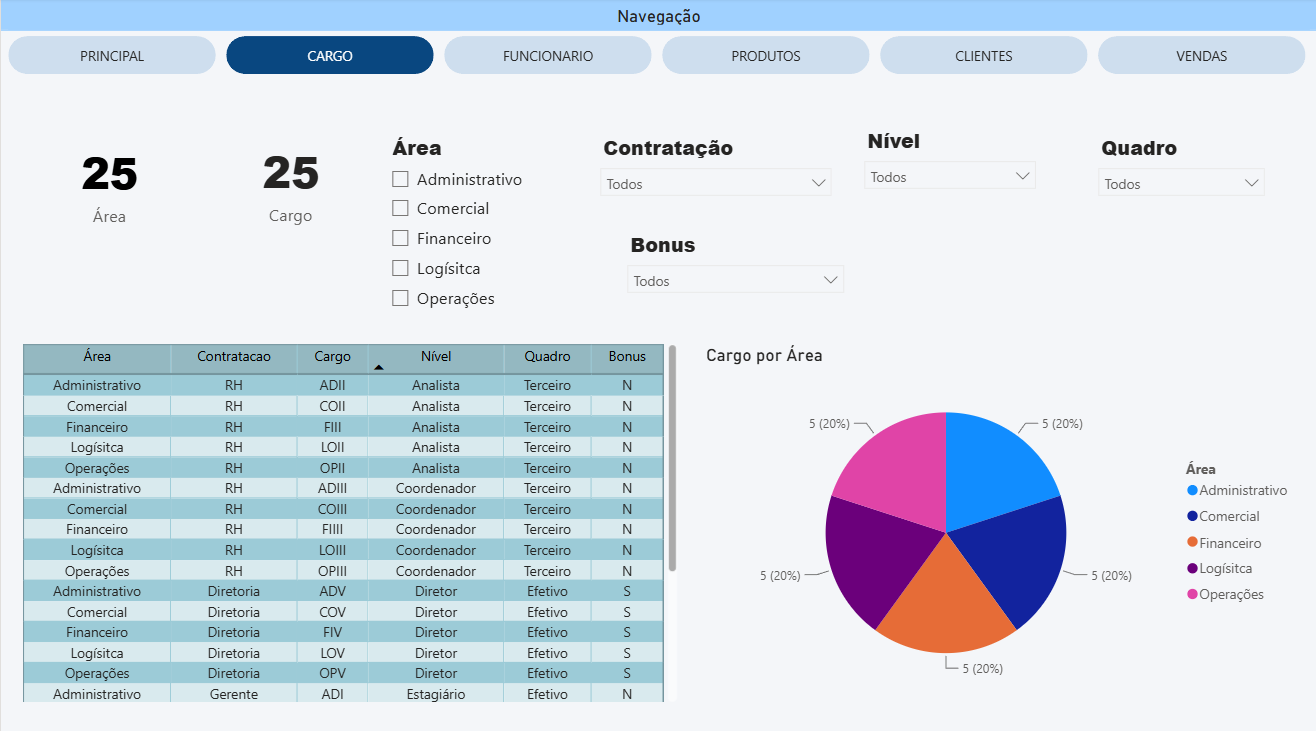

This screenshot's page, from the dashboard's own definition file:
{"tool":"powerbi","page":{"name":"CARGO","canvas":[1280,720],"ordinal":1},"visuals":[{"type":"pageNavigator","title":"Navegação","box":[0,0,1280,80.7],"z":0},{"type":"pieChart","fields":{"Category":["Base Cargos.Área"],"Y":["CountNonNull(Base Cargos.Cargo)"]},"box":[680.9,337.5,584.6,346.3],"z":1000},{"type":"cardVisual","fields":{"Data":["CountNonNull(Base Cargos.Área)"]},"box":[15.6,109.9,180.9,142],"z":2000},{"type":"cardVisual","fields":{"Data":["CountNonNull(Base Cargos.Cargo)"]},"box":[196.5,119.6,171.2,121.6],"z":3000},{"type":"slicer","fields":{"Values":["Base Cargos.Área"]},"box":[367.7,126.4,164.4,188.7],"z":4000},{"type":"slicer","fields":{"Values":["Base Cargos.Contratacao"]},"box":[572.9,126.4,245.1,80.7],"z":5000},{"type":"slicer","fields":{"Values":["Base Cargos.Nível"]},"box":[829.7,119.6,186.7,87.5],"z":6000},{"type":"slicer","fields":{"Values":["Base Cargos.Quadro"]},"box":[1057.3,126.4,181.9,94.3],"z":7000},{"type":"slicer","fields":{"Values":["Base Cargos.Bonus"]},"box":[599.1,220.8,230.5,92.4],"z":8000},{"type":"tableEx","fields":{"Values":["Base Cargos.Área","Base Cargos.Contratacao","Base Cargos.Cargo","Base Cargos.Nível","Base Cargos.Quadro","Base Cargos.Bonus"]},"box":[15.6,331.7,646.8,357.9],"z":9000}]}

Visuals, with their boxes in screenshot pixels (x1, y1, x2, y2), scaled from the page's 1280x720 canvas onto the 1316x731 screenshot:
"Navegação" pageNavigator: Rect(0, 0, 1315, 82)
pieChart - Base Cargos.Área x CountNonNull(Base Cargos.Cargo): Rect(700, 343, 1301, 694)
cardVisual - CountNonNull(Base Cargos.Área): Rect(16, 112, 202, 256)
cardVisual - CountNonNull(Base Cargos.Cargo): Rect(202, 121, 378, 245)
slicer - Base Cargos.Área: Rect(378, 128, 547, 320)
slicer - Base Cargos.Contratacao: Rect(589, 128, 841, 210)
slicer - Base Cargos.Nível: Rect(853, 121, 1045, 210)
slicer - Base Cargos.Quadro: Rect(1087, 128, 1274, 224)
slicer - Base Cargos.Bonus: Rect(616, 224, 853, 318)
tableEx - Base Cargos.Área x Base Cargos.Contratacao: Rect(16, 337, 681, 700)
